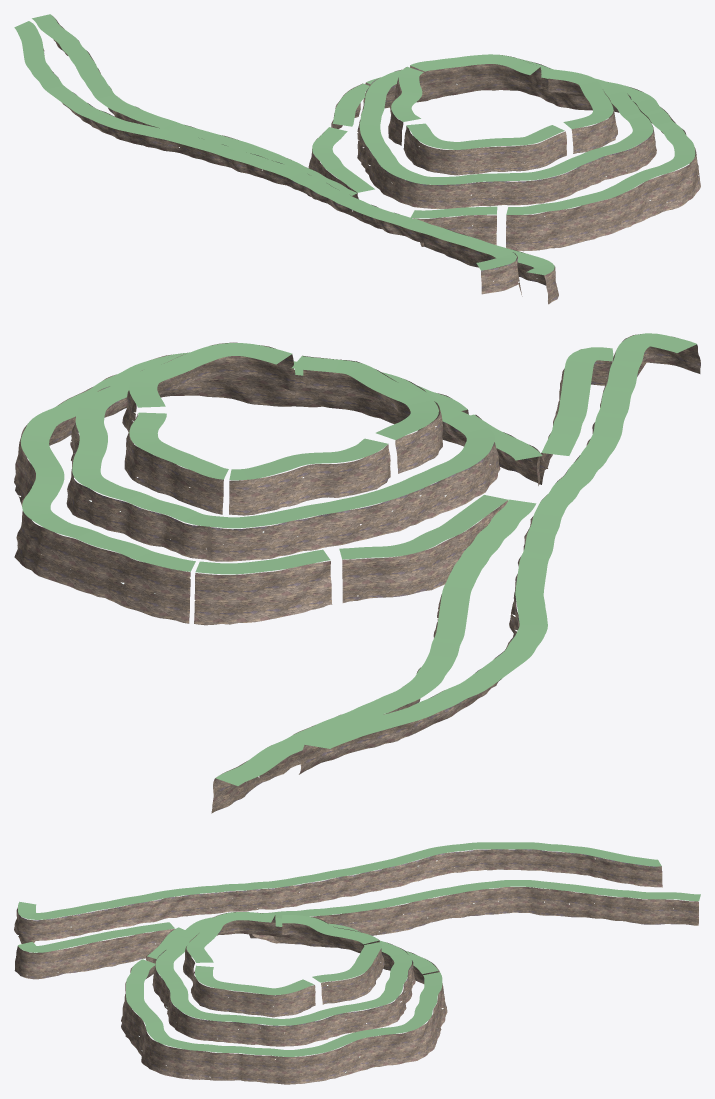
The model's file is CliffWall_plateau_west_n.glb.
3 renders of one model, top to bottom at view 1: azimuth 30°, elevation 25°; view 2: azimuth 150°, elevation 25°; view 3: azimuth 270°, elevation 25°, orthographic. The views are drawn at different scales.
Parts seen in each view (by area): view 1: CliffWall_plateau_west_n-rock8, CliffWall_plateau_west_n-rock4, CliffWall_plateau_west_n-lip5, CliffWall_plateau_west_n-lip4, CliffWall_plateau_west_n-rock5, CliffWall_plateau_west_n-lip6, CliffWall_plateau_west_n-rock2, CliffWall_plateau_west_n-lip8, CliffWall_plateau_west_n-rock0, CliffWall_plateau_west_n-lip2, CliffWall_plateau_west_n-rock1, CliffWall_plateau_west_n-lip1 (+9 smaller); view 2: CliffWall_plateau_west_n-rock4, CliffWall_plateau_west_n-rock8, CliffWall_plateau_west_n-lip5, CliffWall_plateau_west_n-lip4, CliffWall_plateau_west_n-lip6, CliffWall_plateau_west_n-lip8, CliffWall_plateau_west_n-rock11, CliffWall_plateau_west_n-rock3, CliffWall_plateau_west_n-rock10, CliffWall_plateau_west_n-rock5, CliffWall_plateau_west_n-rock0, CliffWall_plateau_west_n-lip7 (+12 smaller); view 3: CliffWall_plateau_west_n-rock5, CliffWall_plateau_west_n-rock8, CliffWall_plateau_west_n-rock6, CliffWall_plateau_west_n-rock4, CliffWall_plateau_west_n-lip5, CliffWall_plateau_west_n-lip8, CliffWall_plateau_west_n-lip4, CliffWall_plateau_west_n-rock7, CliffWall_plateau_west_n-lip6, CliffWall_plateau_west_n-rock1, CliffWall_plateau_west_n-rock0, CliffWall_plateau_west_n-lip2 (+7 smaller).
Part boxes in pixels (x1,y1,x2,y2): CliffWall_plateau_west_n-rock8: [361, 77, 700, 251]; CliffWall_plateau_west_n-rock4: [357, 61, 656, 208]; CliffWall_plateau_west_n-lip5: [14, 21, 516, 270]; CliffWall_plateau_west_n-lip4: [359, 59, 653, 184]; CliffWall_plateau_west_n-rock5: [43, 49, 522, 296]; CliffWall_plateau_west_n-lip6: [32, 14, 357, 195]; CliffWall_plateau_west_n-rock2: [403, 126, 566, 175]; CliffWall_plateau_west_n-lip8: [366, 77, 695, 214]; CliffWall_plateau_west_n-rock0: [410, 54, 542, 88]; CliffWall_plateau_west_n-lip2: [406, 123, 564, 149]; CliffWall_plateau_west_n-rock1: [548, 68, 617, 153]; CliffWall_plateau_west_n-lip1: [541, 68, 613, 128]; CliffWall_plateau_west_n-rock4: [66, 370, 500, 561]; CliffWall_plateau_west_n-rock8: [14, 354, 468, 623]; CliffWall_plateau_west_n-lip5: [303, 333, 696, 748]; CliffWall_plateau_west_n-lip4: [72, 352, 494, 528]; CliffWall_plateau_west_n-lip6: [215, 499, 536, 785]; CliffWall_plateau_west_n-lip8: [20, 353, 467, 571]; CliffWall_plateau_west_n-rock11: [194, 561, 332, 625]; CliffWall_plateau_west_n-rock3: [229, 444, 390, 515]; CliffWall_plateau_west_n-rock10: [342, 500, 508, 602]; CliffWall_plateau_west_n-rock5: [299, 334, 700, 774]; CliffWall_plateau_west_n-rock0: [124, 414, 223, 514]; CliffWall_plateau_west_n-lip7: [541, 347, 613, 455]; CliffWall_plateau_west_n-rock5: [14, 849, 662, 952]; CliffWall_plateau_west_n-rock8: [121, 967, 447, 1084]; CliffWall_plateau_west_n-rock6: [252, 887, 698, 943]; CliffWall_plateau_west_n-rock4: [152, 926, 415, 1046]; CliffWall_plateau_west_n-lip5: [18, 842, 661, 919]; CliffWall_plateau_west_n-lip8: [126, 959, 442, 1056]; CliffWall_plateau_west_n-lip4: [155, 917, 412, 1025]; CliffWall_plateau_west_n-rock7: [14, 929, 174, 979]; CliffWall_plateau_west_n-lip6: [261, 880, 700, 918]; CliffWall_plateau_west_n-rock1: [191, 971, 315, 1017]; CliffWall_plateau_west_n-rock0: [321, 948, 384, 1004]; CliffWall_plateau_west_n-lip2: [186, 912, 274, 962].
Size of the model in its own units: 974 by 148 by 1412.
4 materials, 1 textured.
